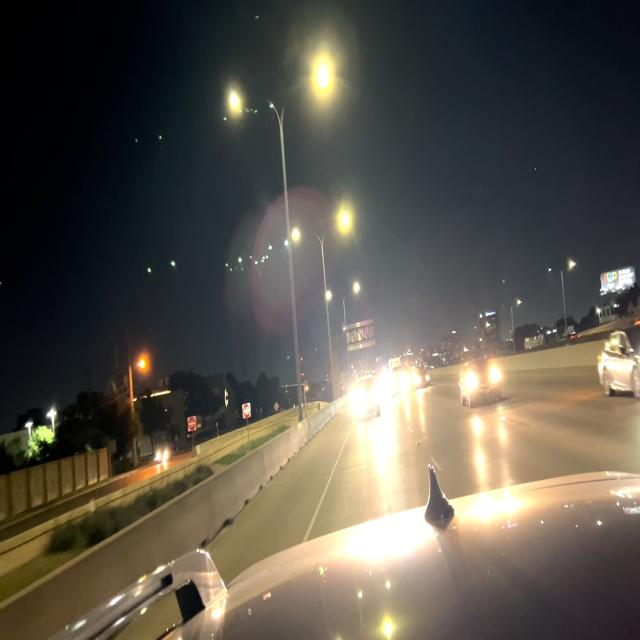back-of-sign: (344, 319, 377, 354)
